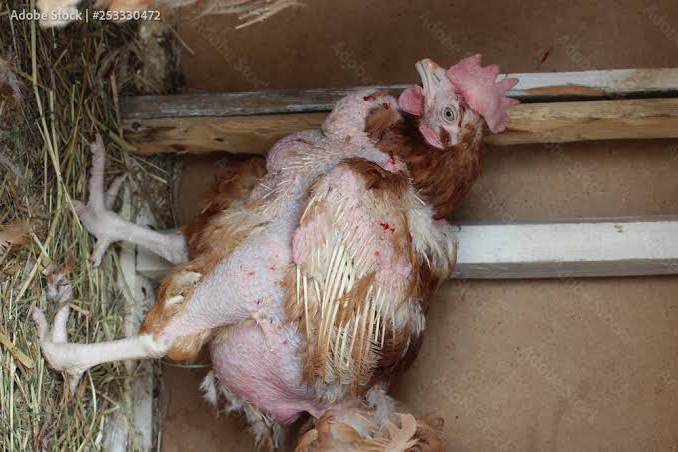Unhealthy: (44, 45, 526, 452)
